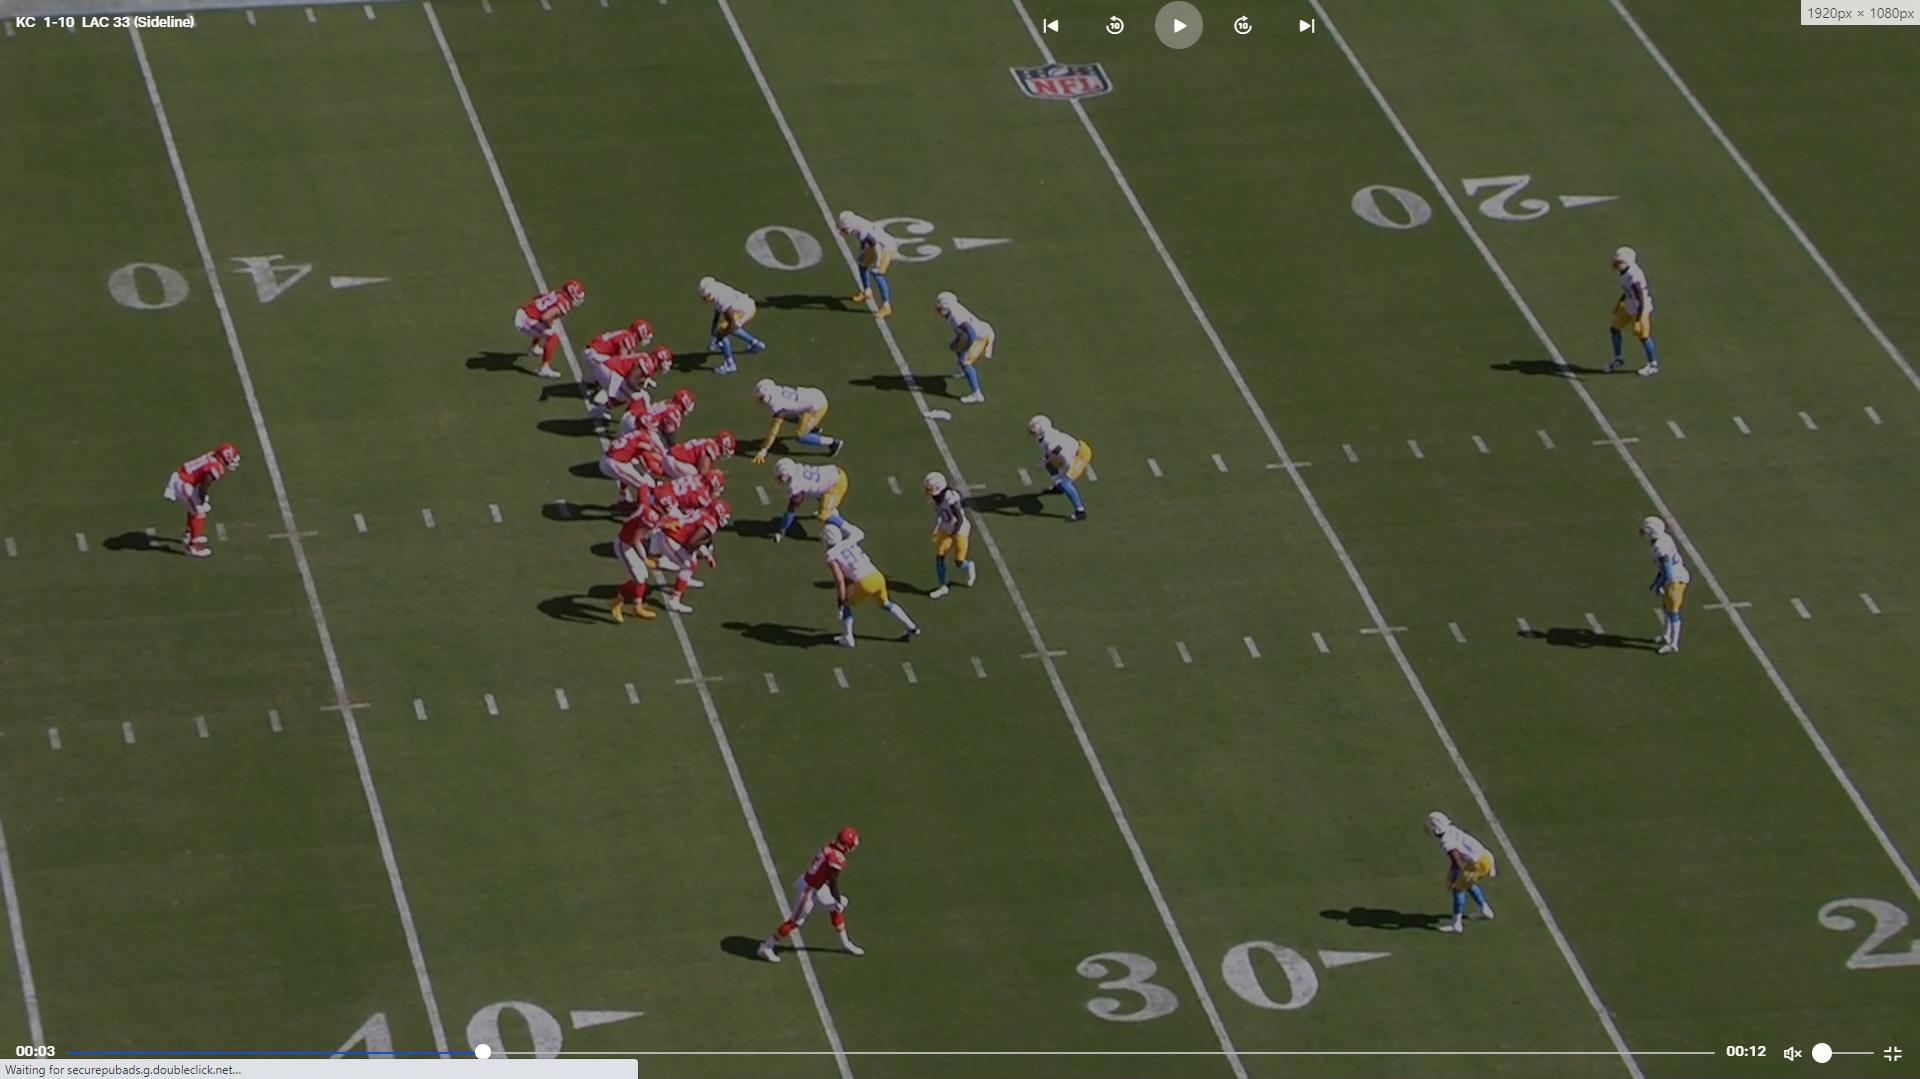defense: (815, 510, 923, 655), (1421, 805, 1504, 940), (772, 455, 872, 546), (1601, 241, 1663, 383), (915, 472, 980, 606), (1642, 512, 1699, 662), (1028, 413, 1101, 529), (687, 276, 763, 381), (751, 376, 843, 462), (935, 291, 1000, 412), (836, 208, 900, 328)
oline: (645, 503, 722, 615), (648, 467, 727, 570), (594, 344, 675, 420), (655, 433, 734, 487), (628, 389, 694, 437)
qb: (607, 419, 671, 522)
skill: (759, 824, 881, 969), (613, 498, 699, 626), (167, 439, 246, 561), (510, 277, 587, 386), (577, 321, 654, 404)
